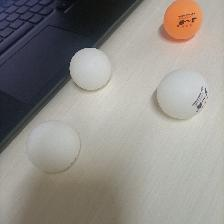WhiteBall: (26, 121, 80, 174), (155, 68, 208, 121), (67, 47, 111, 90)
YellowBall: (163, 1, 203, 40)
